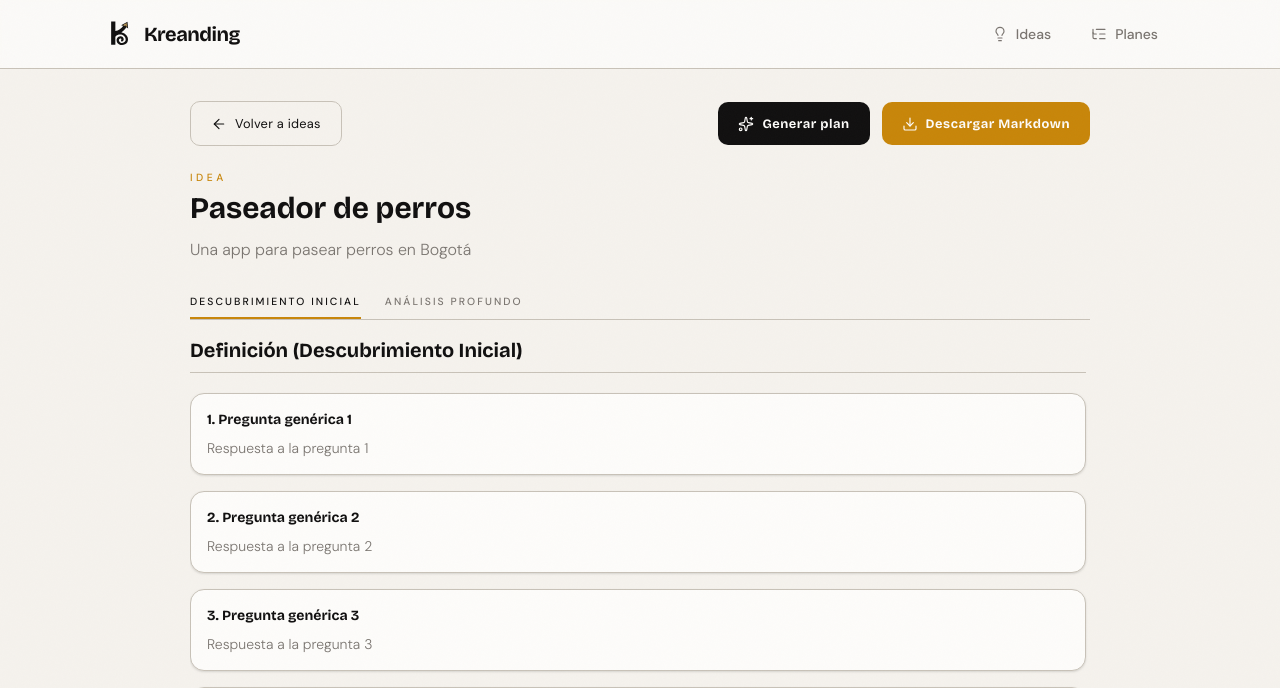
it: Idea (resumen final y descargas) › muestra ambas secciones de respuestas
Check: the heading "Paseador de perros" is shown, box [190,190,471,226]
Check: the button "Descubrimiento inicial" is shown, box [190,294,361,319]
Click the button "Análisis profundo": (454, 307) [385,294,523,319]
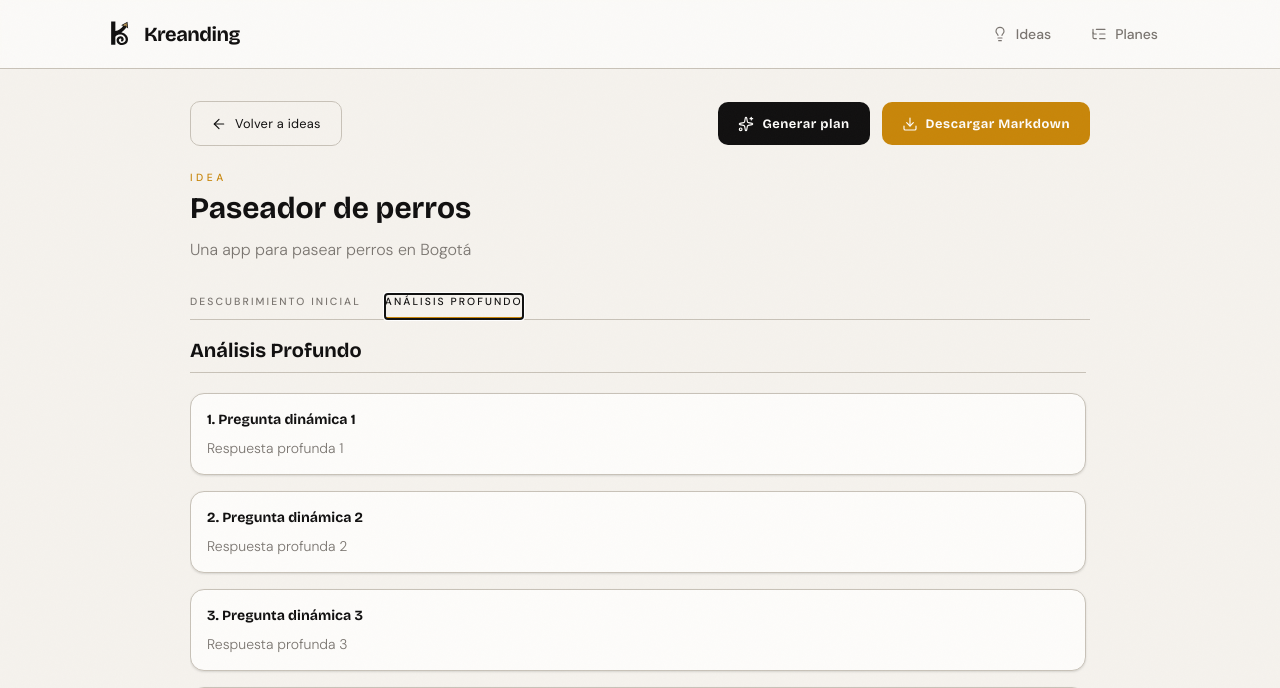
Check: the text "1. Pregunta dinámica 1" is shown, box [207,411,356,428]
